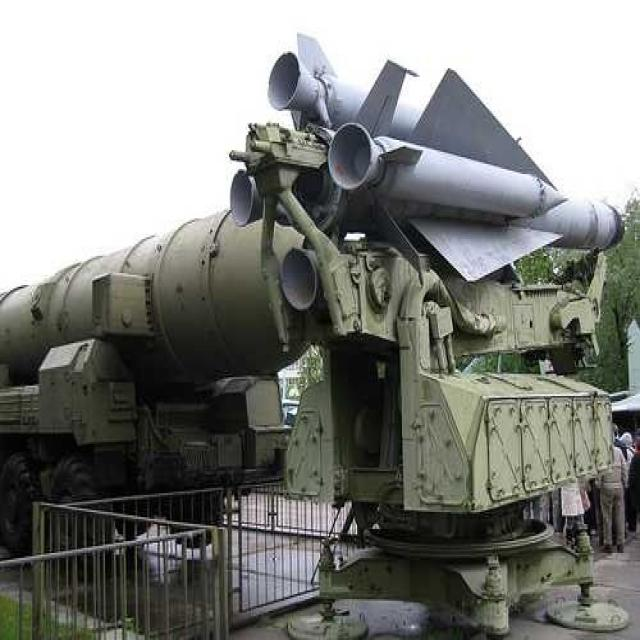missile: (222, 33, 637, 315)
